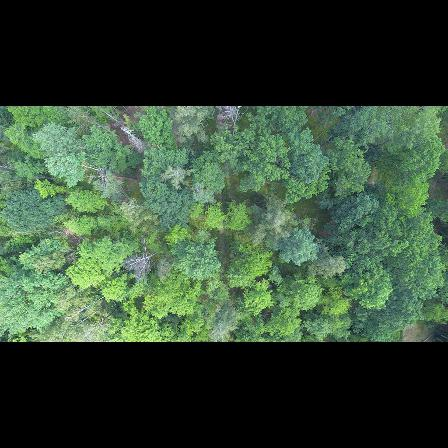Dead: (120, 241, 166, 276), (214, 105, 251, 141), (119, 122, 155, 152), (79, 165, 118, 189)
